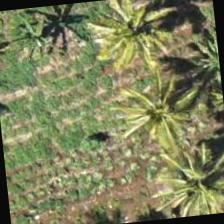Kelapa_Sawit: (117, 60, 216, 159), (95, 0, 194, 81), (133, 133, 223, 221), (15, 0, 112, 77)
